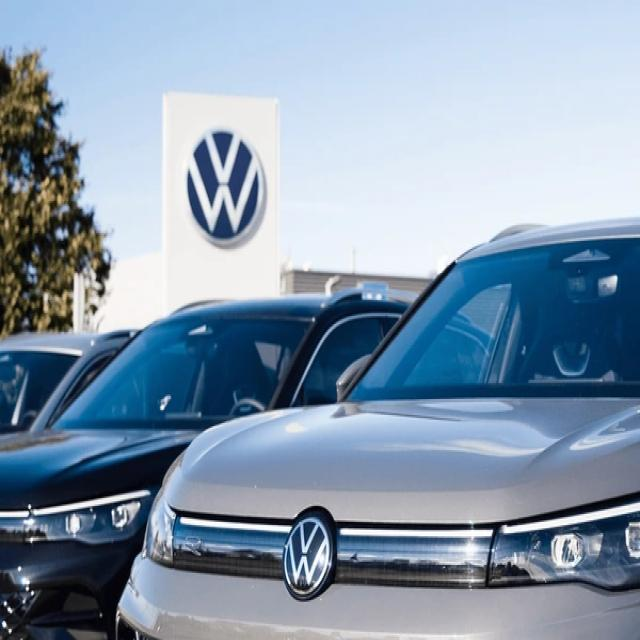wolksvogen: (179, 128, 278, 255), (274, 518, 346, 602)
